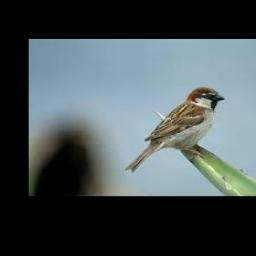Sparrow: (125, 86, 224, 172)
